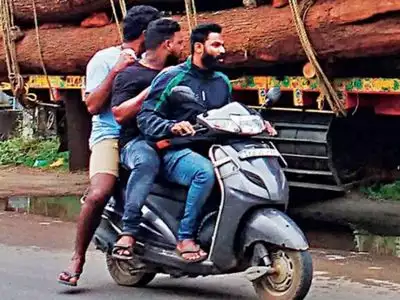bike: (84, 99, 318, 295)
